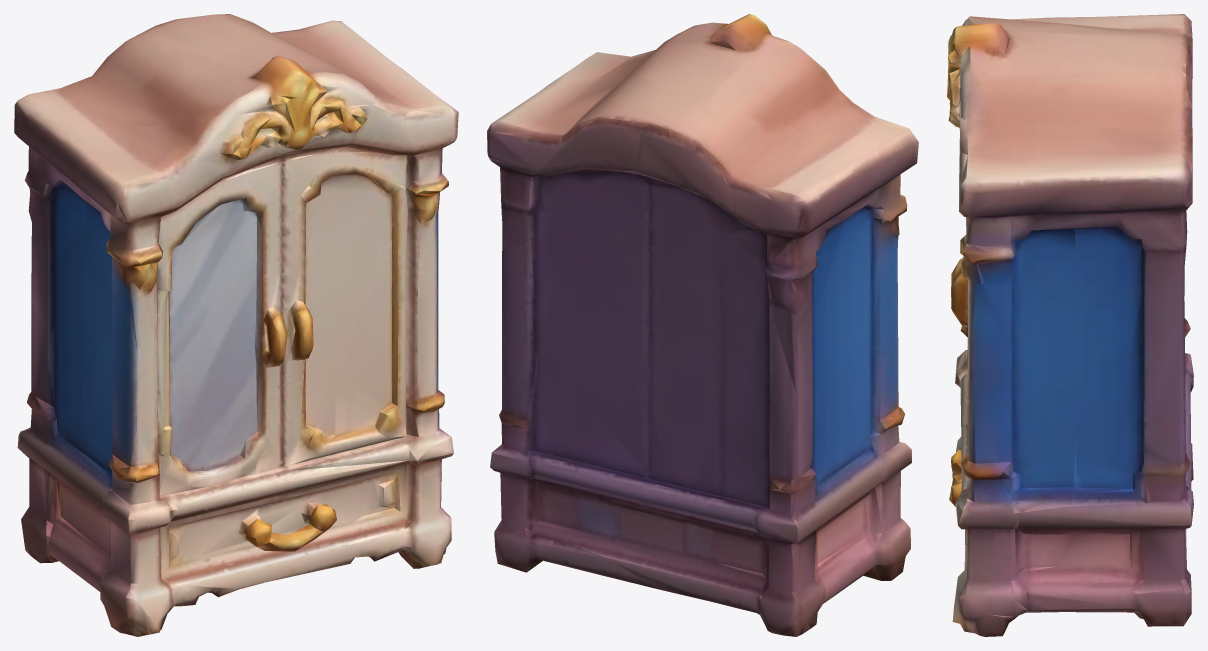
The model's file is cabinet10.glb.
The picture shows the model from 3 angles, left to right: view 1: azimuth 30°, elevation 25°; view 2: azimuth 150°, elevation 25°; view 3: azimuth 270°, elevation 25°; orthographic projection. The views are drawn at different scales.
Size of the model in its own units: 0.2082 by 0.3102 by 0.129.
Materials: 1 (1 with a texture image).
